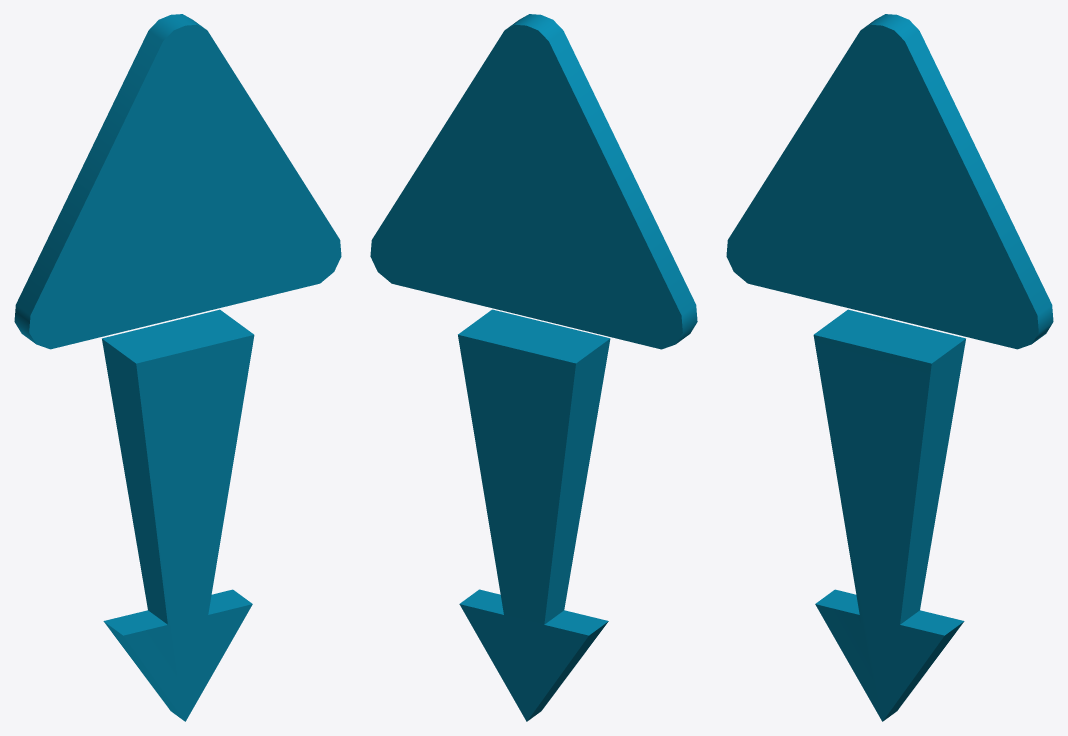
The model's file is Arrow (Ok).FBX.
3 views of the same model, side by side, from view 1: azimuth 30°, elevation 25°; view 2: azimuth 150°, elevation 25°; view 3: azimuth 330°, elevation 25° (orthographic).
Parts seen in each view (by area): view 1: (FB) Arrow A-01; view 2: (FB) Arrow A-01; view 3: (FB) Arrow A-01.
Part boxes in pixels (x1,y1,x2,y2): (FB) Arrow A-01: [14, 14, 341, 721]; (FB) Arrow A-01: [370, 14, 697, 721]; (FB) Arrow A-01: [726, 14, 1053, 721].
Bounding box in the file's own units: 0.0873 × 0.1859 × 0.0167.
